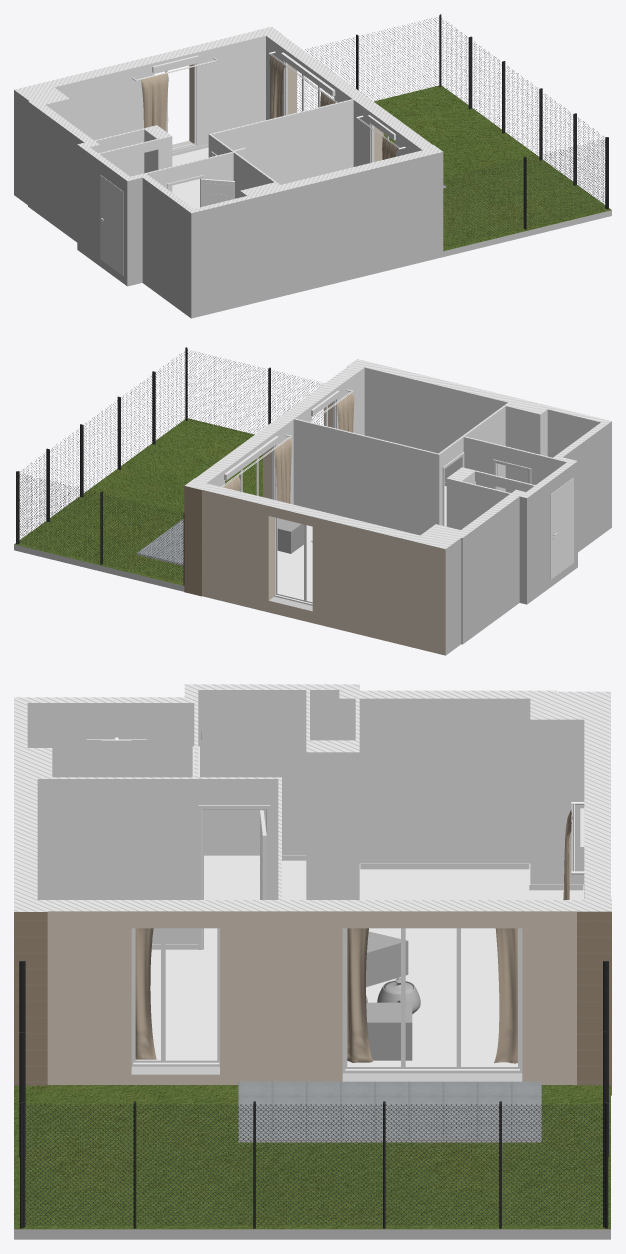
File: t2_a001_04.6_furniture_Test.gltf
3 renders of one model, top to bottom at view 1: azimuth 30°, elevation 25°; view 2: azimuth 150°, elevation 25°; view 3: azimuth 270°, elevation 25°, orthographic. The views are drawn at different scales.
Parts seen in each view (by area): view 1: masonry_01, ground_garden_01, exc_fence_01, section_face_01, windows_01, door_01, NOcurtain_03, ground_living_01, NOcurtain_01, interior_door_panel_02, curtain_bar_01; view 2: masonry_01, ground_garden_01, exc_fence_01, section_face_01, door_01, windows_01, ground_living_01, NOcurtain_01, ground_terrace_01, Box001, interior_door_frame_01, NOcurtain_02; view 3: masonry_01, ground_garden_01, exc_fence_01, section_face_01, ground_terrace_01, ground_living_01, door_01, windows_01, ground_bed_01, ground_kitchen_01, NOcurtain_01, ground_hall_01 (+7 smaller).
Part boxes in pixels (x1,y1,x2,y2): masonry_01: (14,36,611,318); ground_garden_01: (374,85,611,251); exc_fence_01: (297,14,608,246); section_face_01: (14,26,442,213); windows_01: (152,52,395,162); door_01: (100,175,123,275); NOcurtain_03: (141,72,168,131); ground_living_01: (172,147,208,208); NOcurtain_01: (269,54,335,118); interior_door_panel_02: (200,178,234,206); curtain_bar_01: (132,51,405,149); masonry_01: (14,366,611,655); ground_garden_01: (14,418,262,585); exc_fence_01: (16,347,323,584); section_face_01: (185,359,611,549); door_01: (550,477,573,579); windows_01: (224,390,339,605); ground_living_01: (277,525,312,601); NOcurtain_01: (223,438,291,503); ground_terrace_01: (137,519,183,564); Box001: (277,518,303,553); interior_door_frame_01: (442,452,531,525); NOcurtain_02: (336,392,354,432); masonry_01: (14,690,611,1239); ground_garden_01: (14,1085,610,1229); exc_fence_01: (19,961,608,1228); section_face_01: (14,684,611,911); ground_terrace_01: (238,1081,541,1139); ground_living_01: (347,928,517,1065); door_01: (199,714,277,856); windows_01: (131,808,584,1073); ground_bed_01: (150,949,217,1059); ground_kitchen_01: (360,869,583,899); NOcurtain_01: (347,928,517,1063); ground_hall_01: (204,856,306,949).
Size of the model in its own units: 11.75 by 2.7 by 7.96.
Materials: 48 (40 with a texture image).
